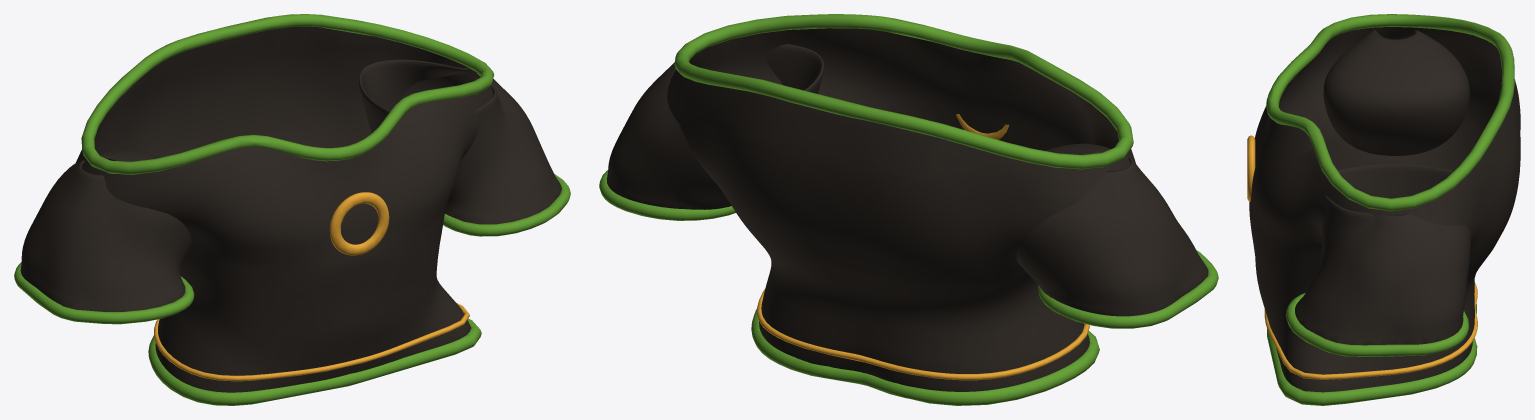
The model's file is tunica.glb.
The picture shows the model from 3 angles, left to right: view 1: azimuth 30°, elevation 25°; view 2: azimuth 150°, elevation 25°; view 3: azimuth 270°, elevation 25°; orthographic projection. The views are drawn at different scales.
Visible parts, largest first — view 1: accesorio_tunica; view 2: accesorio_tunica; view 3: accesorio_tunica.
Part boxes in pixels (box(x1,y1,x2,y2)): accesorio_tunica: box(14, 14, 570, 405); accesorio_tunica: box(599, 14, 1218, 405); accesorio_tunica: box(1247, 14, 1520, 405).
Size of the model in its own units: 1.27 by 0.6381 by 0.5935.
